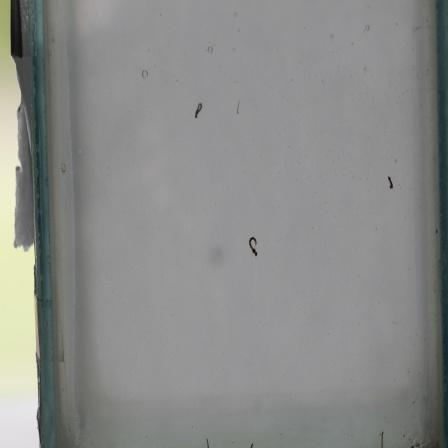Jentik-Nyamuk: (245, 231, 262, 260), (190, 98, 206, 124), (385, 174, 398, 192)
